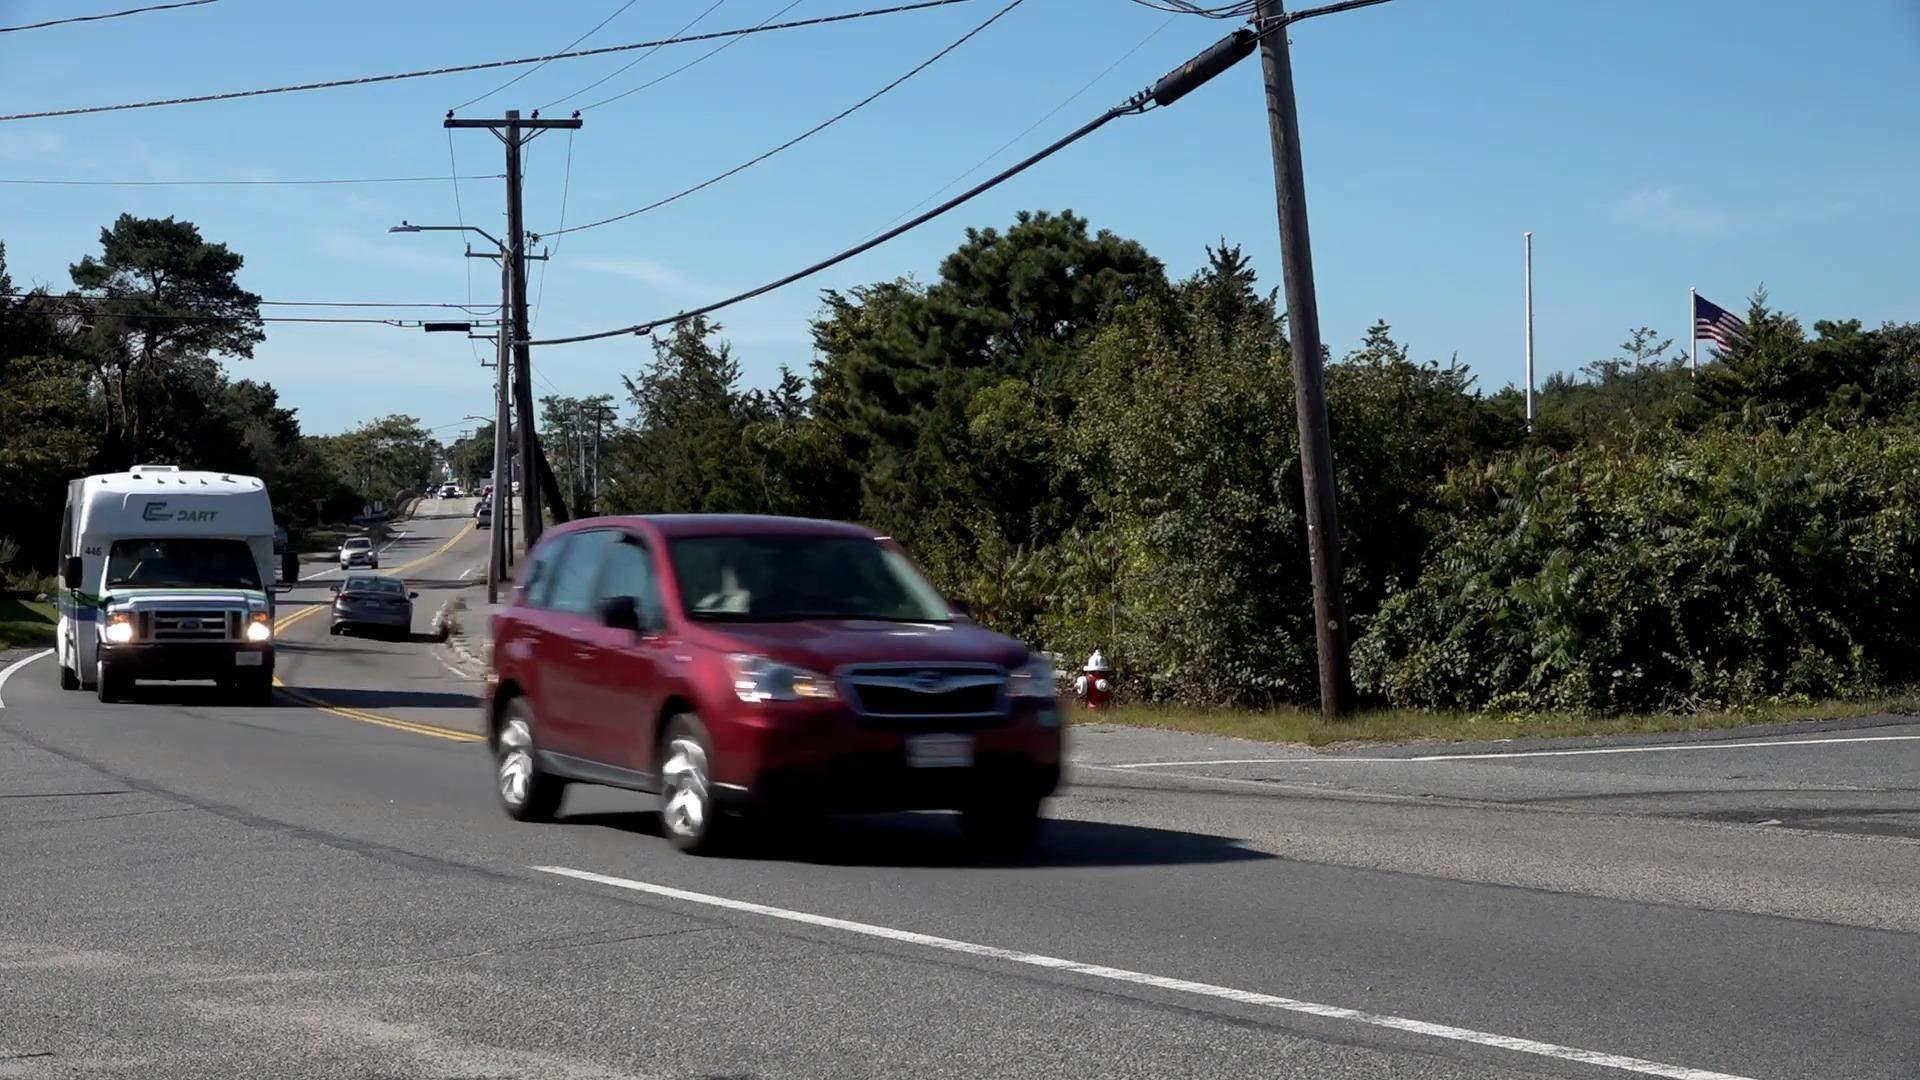sedans: (328, 576, 418, 638)
suv: (491, 510, 1069, 857)
truck: (54, 467, 281, 707)
